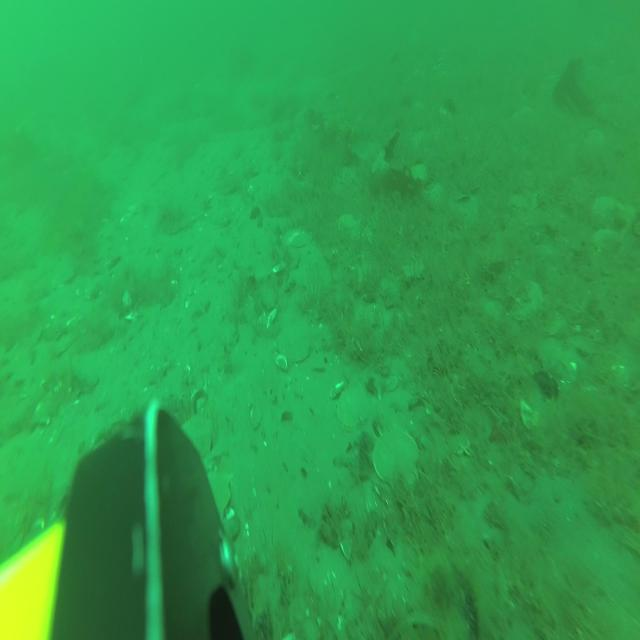scallop: (373, 430, 419, 492), (176, 411, 214, 469), (196, 472, 231, 528), (277, 322, 312, 364), (592, 193, 632, 229), (336, 384, 366, 430), (512, 278, 542, 321), (594, 228, 622, 256), (283, 224, 313, 250)
